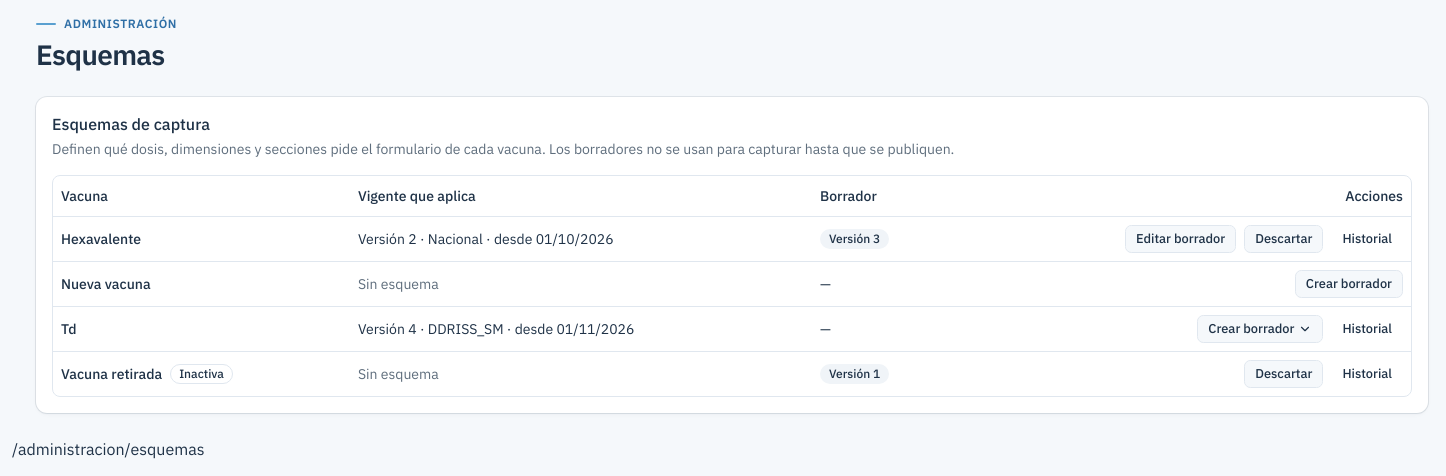
crear un borrador › con vigente, "Copiar la versión vigente" va al editor con origen=copia
Press Enter in the button with aria-label "Crear borrador de TD", box [1197, 315, 1324, 343]
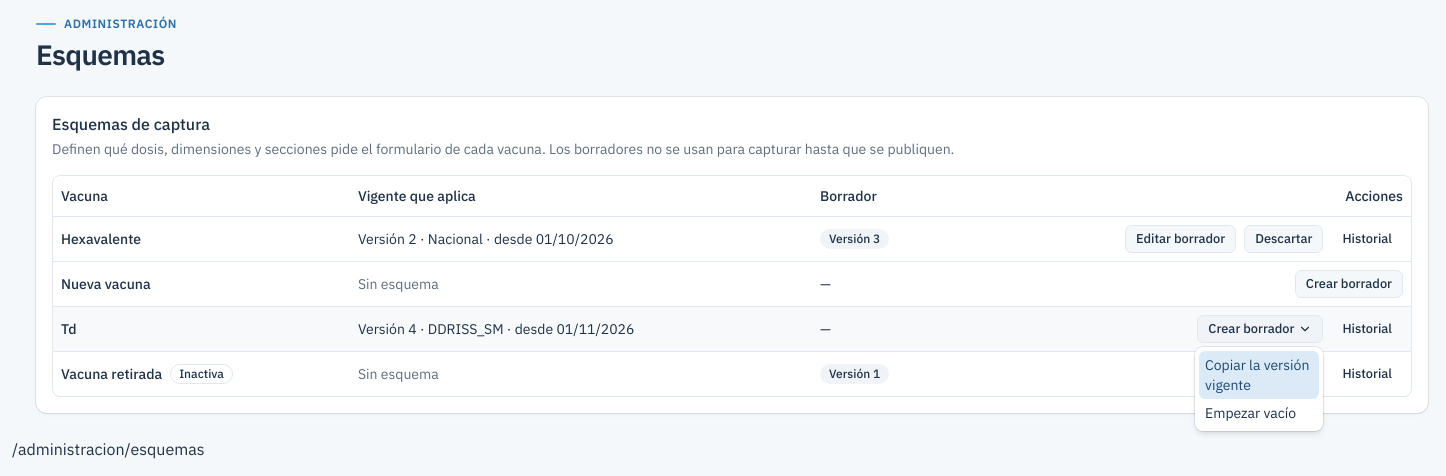
Result: the menu items read "Copiar la versión vigente", "Empezar vacío", in this order
Click the menu item "Copiar la versión vigente". click: [1259, 375]
box: [1199, 351, 1319, 399]
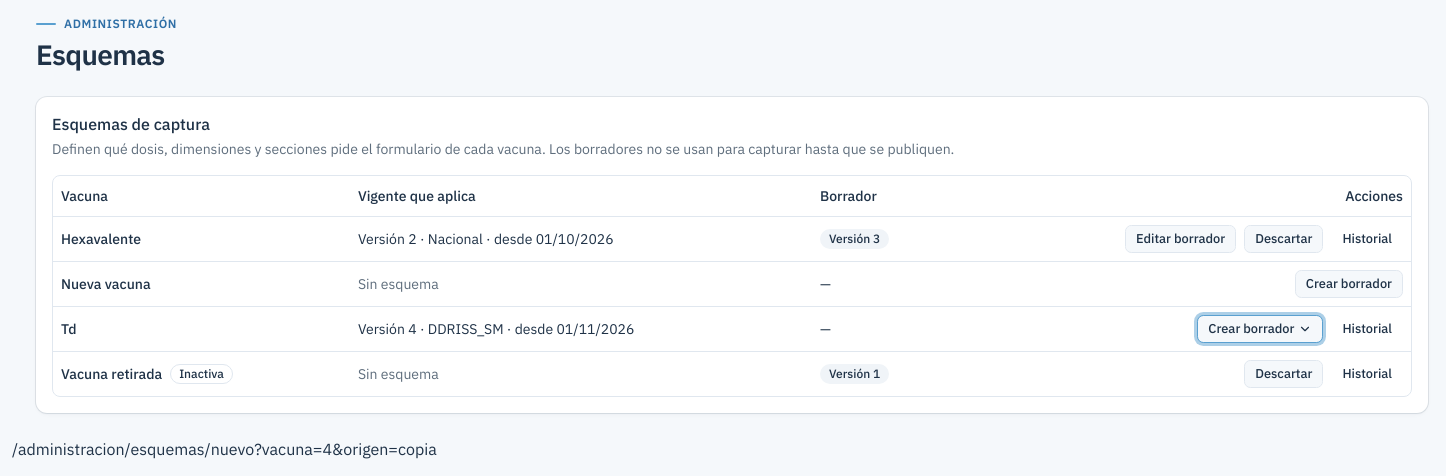
Result: the text with test id "ubicacion" reads "/administracion/esquemas/nuevo?vacuna=4&origen=copia" at [12, 439, 437, 459]
